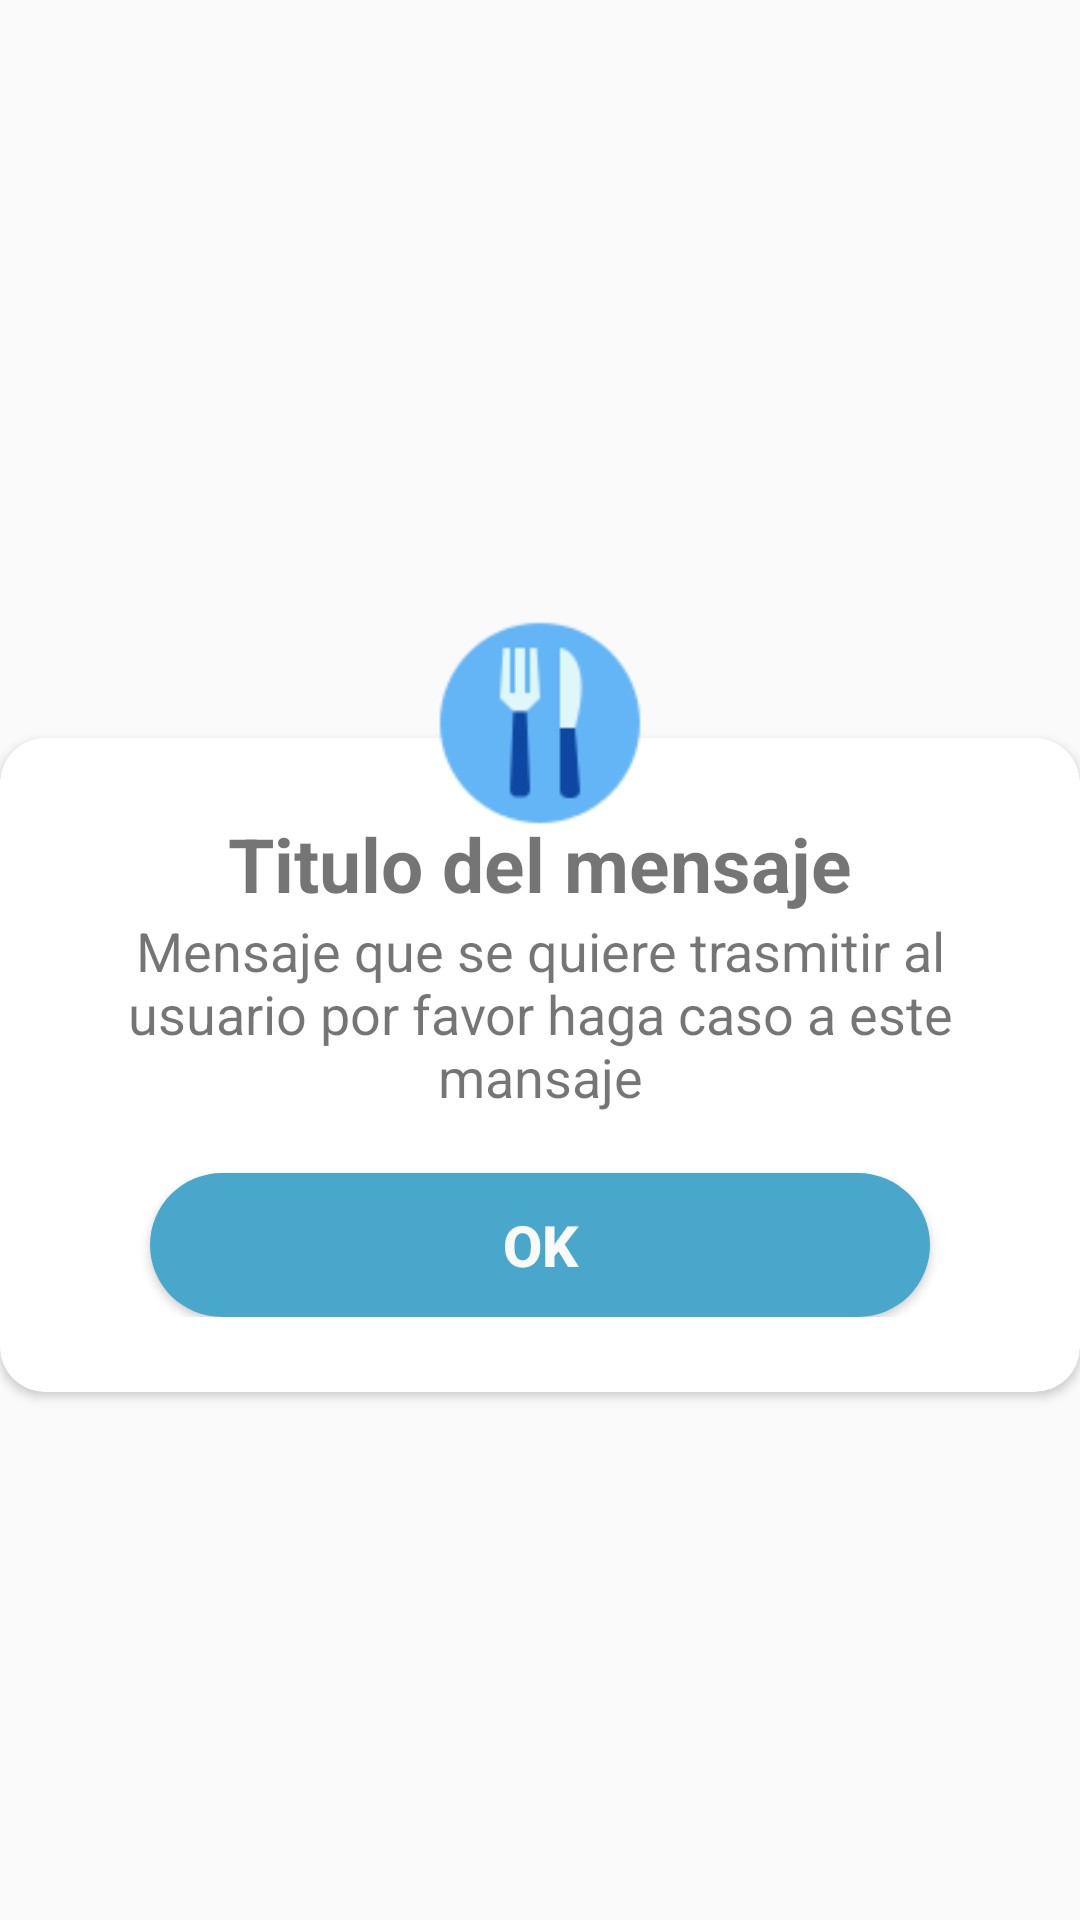

Point at icon controls on the screen. Image size 1080 x 1920, points as point (x, y).
meal: point (540, 723)
